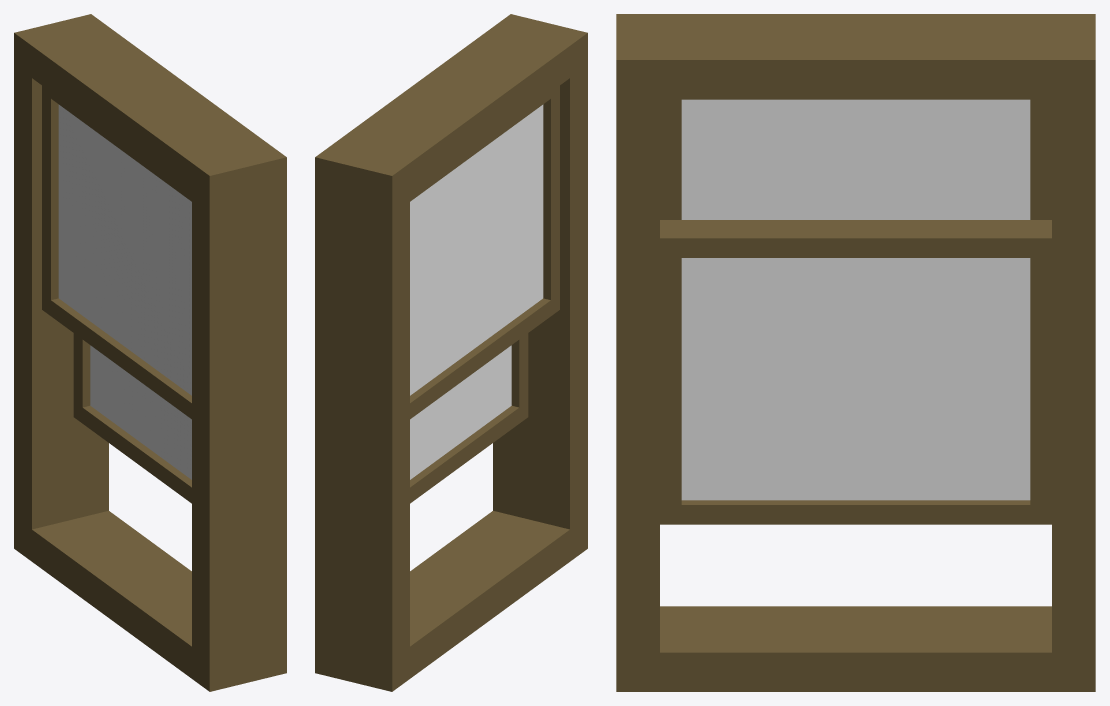
Rendered from window.fbx.
The picture shows the model from 3 angles, left to right: view 1: azimuth 30°, elevation 25°; view 2: azimuth 150°, elevation 25°; view 3: azimuth 270°, elevation 25°; orthographic projection. The views are drawn at different scales.
Visible parts, largest first — view 1: Window Frame, Window Bottom, Window Top; view 2: Window Frame, Window Bottom, Window Top; view 3: Window Frame, Window Top, Window Bottom.
Boxes of the visible parts, x1,y1,x2,y2 form: Window Frame: (14, 14, 286, 691); Window Bottom: (42, 85, 191, 419); Window Top: (73, 333, 191, 503); Window Frame: (315, 14, 587, 691); Window Bottom: (410, 85, 559, 419); Window Top: (410, 333, 528, 503); Window Frame: (616, 14, 1095, 691); Window Top: (660, 220, 1051, 524); Window Bottom: (660, 99, 1051, 219).
Bounding box in the file's own units: 50 × 320 × 220.
